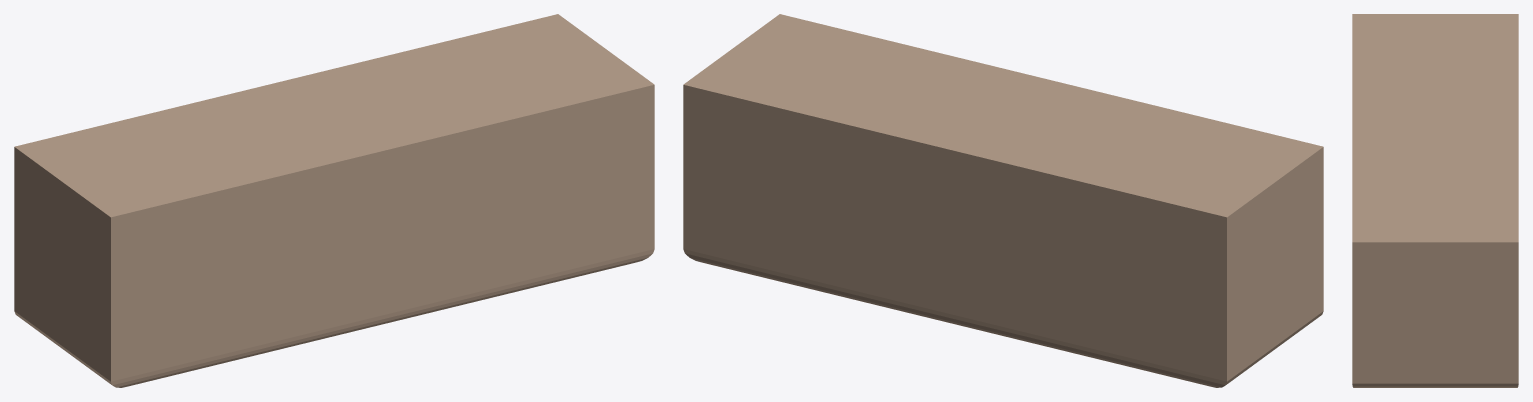
File: kiris_S.fbx
3 views of the same model, side by side, from view 1: azimuth 30°, elevation 25°; view 2: azimuth 150°, elevation 25°; view 3: azimuth 270°, elevation 25° (orthographic). The views are drawn at different scales.
Visible parts, largest first — view 1: kiris.001; view 2: kiris.001; view 3: kiris.001.
Boxes of the visible parts, <box> form: kiris.001: <box>14,14,654,387</box>; kiris.001: <box>683,14,1323,387</box>; kiris.001: <box>1352,14,1518,387</box>.
Bounding box in the file's own units: 65.02 × 20 × 20.
